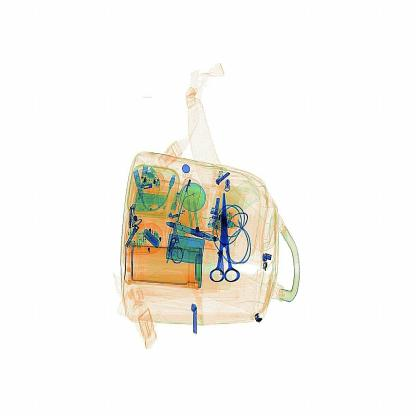gun: (206, 181, 250, 293)
